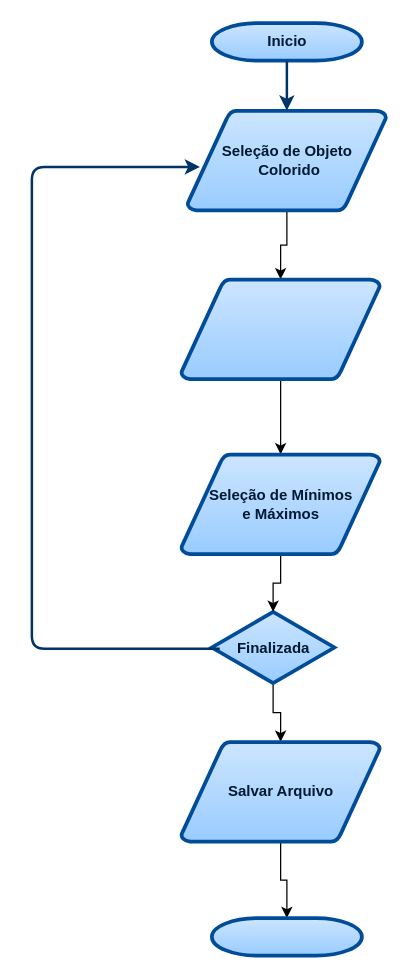
Image size: 409x979. Some labels were removed from this diagram. The shapes that lost their labels are listed below. From the top down, each one's centre as x and y in pixels, then its label:
At point 280,329: "Geração de Gráfico".
At point 286,936: "Fim".
